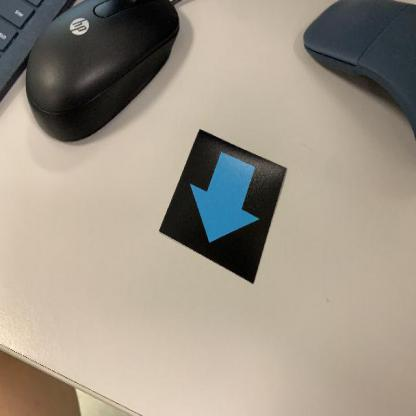down: (159, 128, 289, 292)
